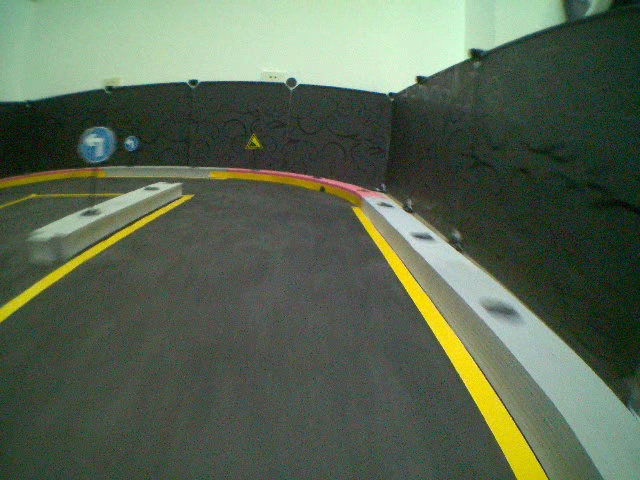fast: (245, 133, 261, 151)
turn: (77, 125, 117, 163), (124, 135, 137, 152)
